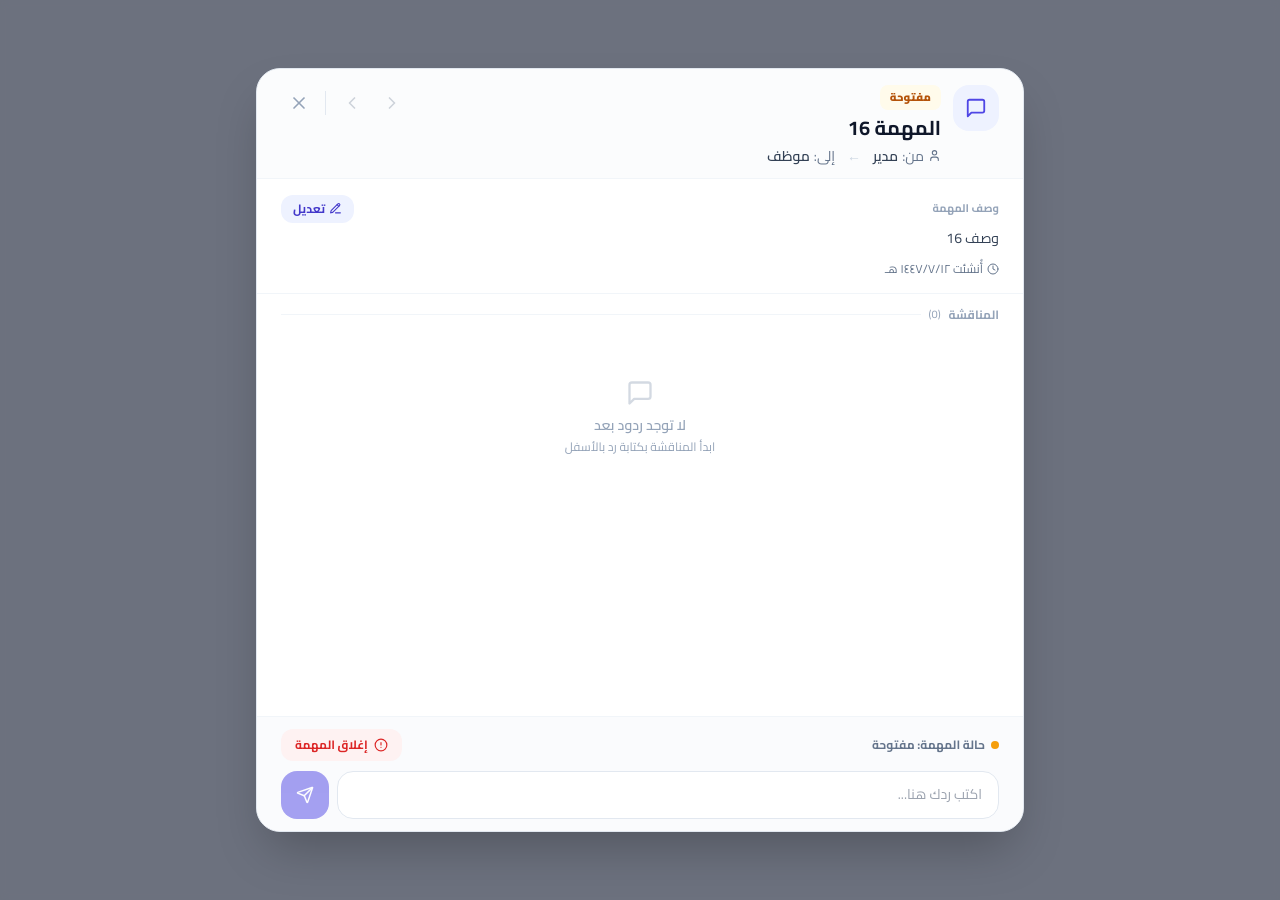
TaskDetailsModal — editing an open task › other server errors are shown as sent by the Backend
This screenshot has width=1280, height=900.
Expected: the text box labelled "اكتب ردك" is enabled, [337,771,999,819]
Click the button "تعديل" at (318, 209), box [281,195,354,223]
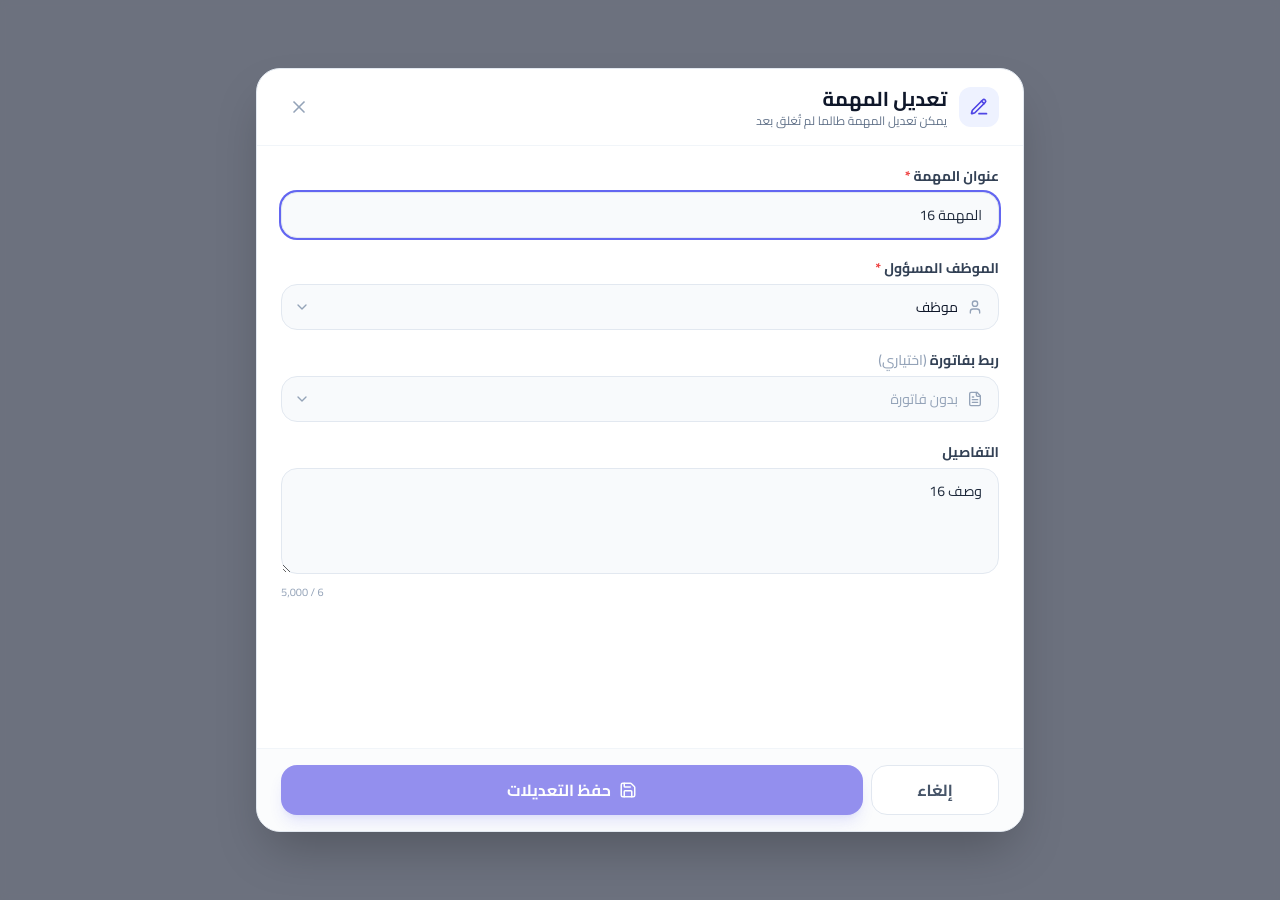
Replace the text in the field labelled "عنوان المهمة *" with "عنوان آخر" at (640, 215), box [281,192,999,238]
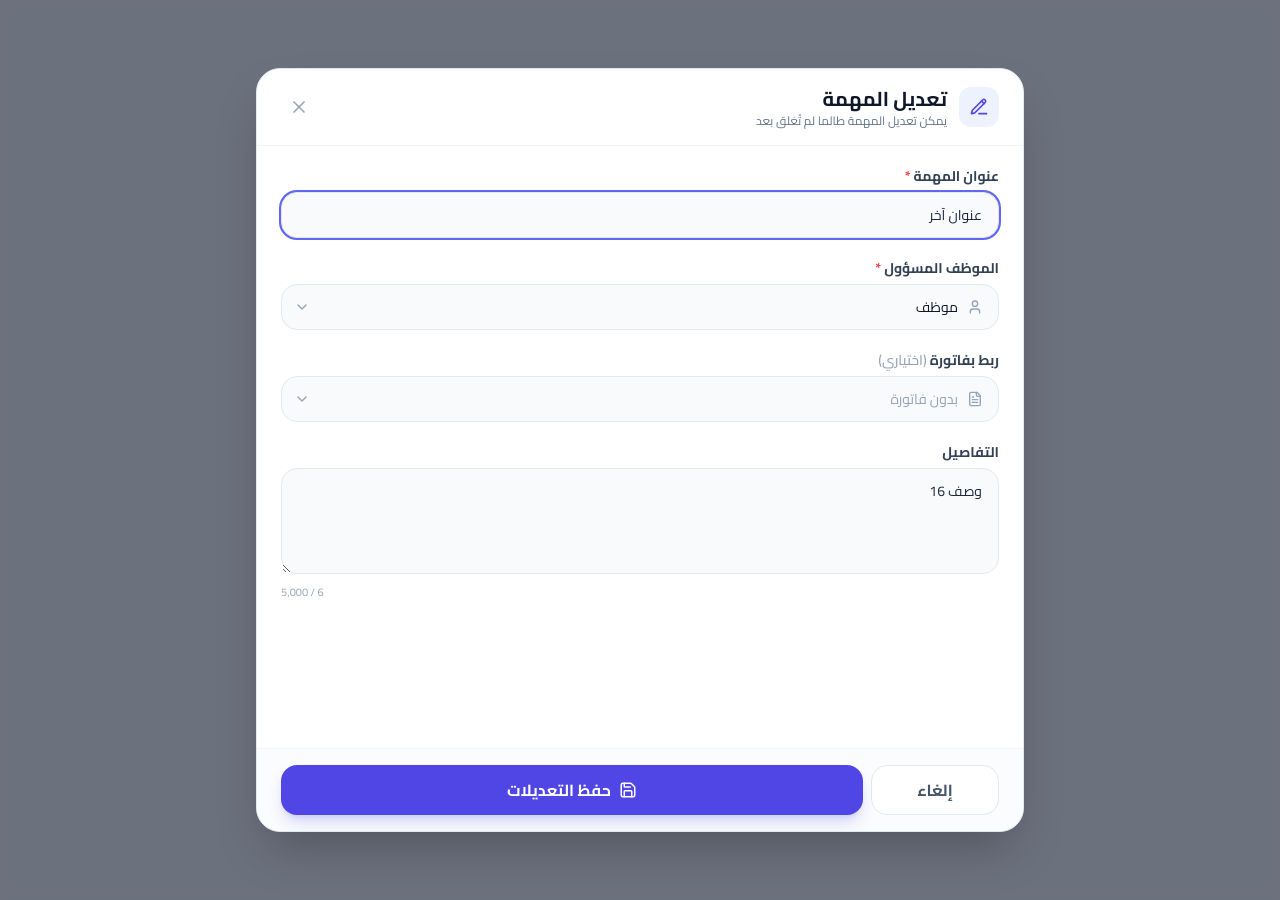
Click the button "حفظ التعديلات" at (572, 790), box [281,765,863,815]
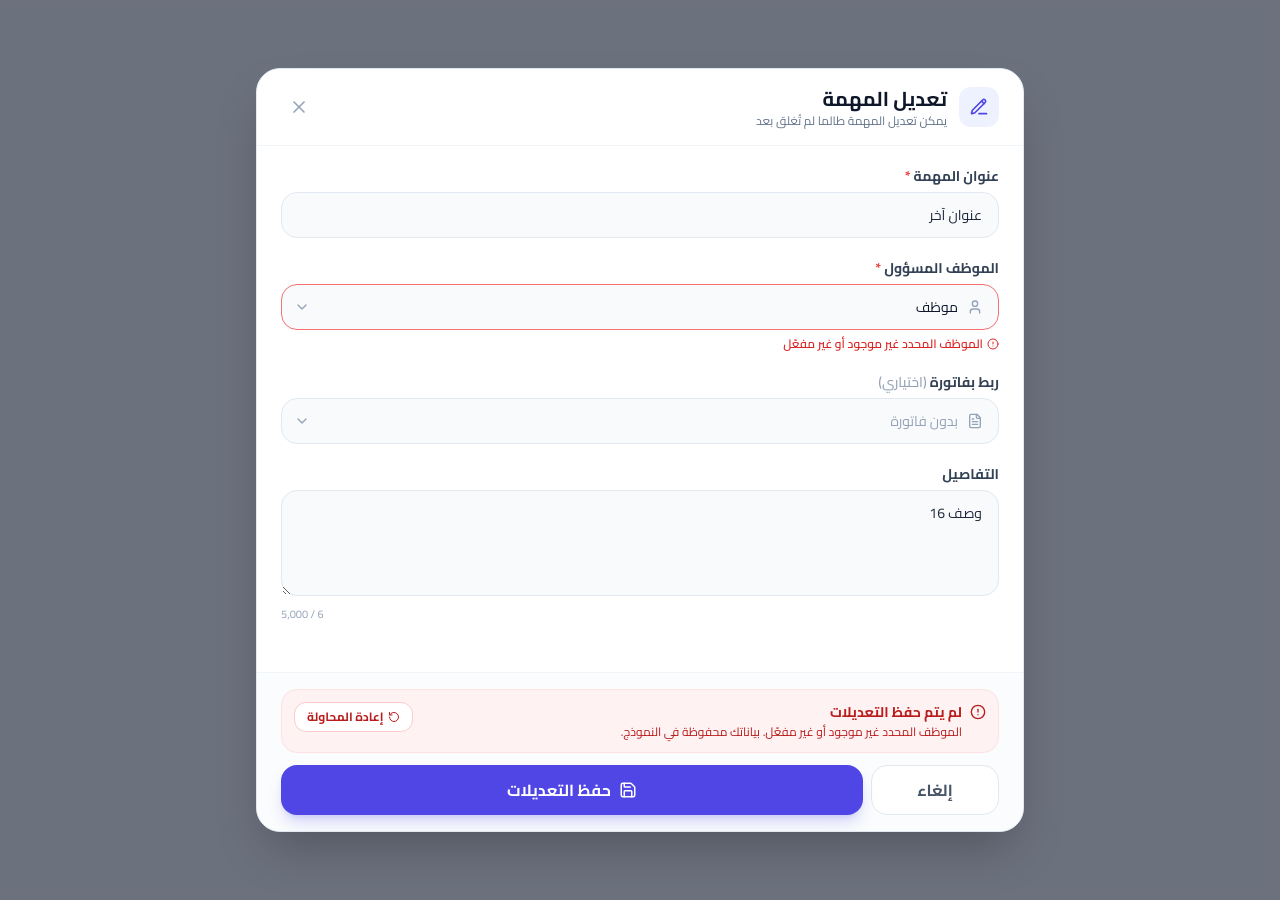
Result: the text "الموظف المحدد غير موجود أو غير مفعّل" is shown at [783,332,999,355]
